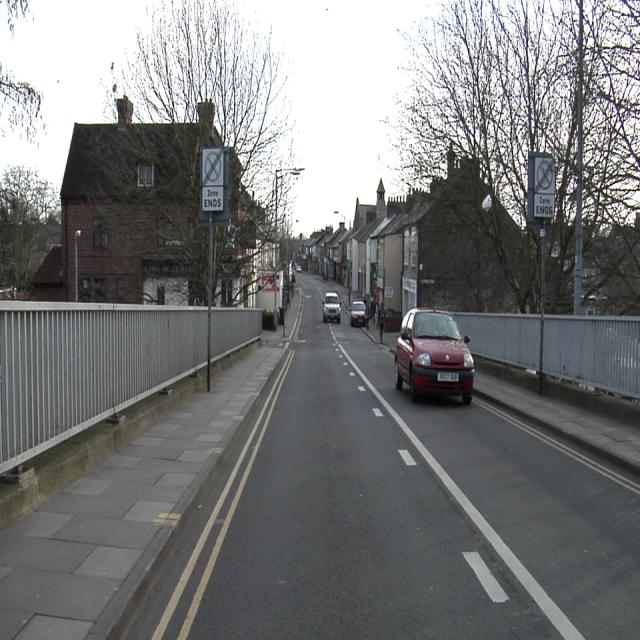Building: (39, 100, 222, 304), (299, 180, 504, 331), (214, 152, 262, 307)
Car: (395, 311, 474, 402), (324, 292, 340, 322), (350, 301, 367, 327)
Road: (160, 275, 635, 638)
Tree: (107, 1, 295, 303), (1, 164, 58, 289)
